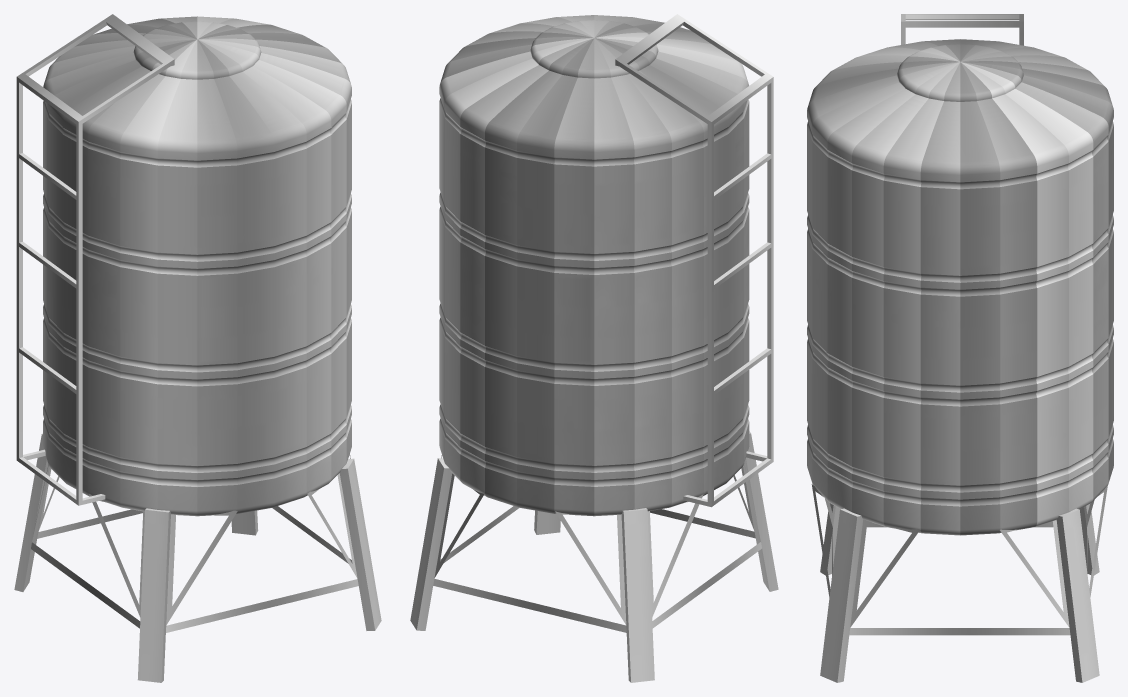
The model's file is 小水塔.glb.
3 renders of one model, left to right at view 1: azimuth 30°, elevation 25°; view 2: azimuth 150°, elevation 25°; view 3: azimuth 270°, elevation 25°, orthographic.
Parts seen in each view (by area): view 1: water+tower2#4, foot1#1 (×4); view 2: water+tower2#4, foot1#1 (×4); view 3: water+tower2#4, foot1#1 (×4).
Part boxes in pixels (left/top/right/bottom): water+tower2#4: left=16, top=14, right=358, bottom=632; foot1#1 (×4): left=14, top=433, right=381, bottom=682; water+tower2#4: left=433, top=14, right=773, bottom=632; foot1#1 (×4): left=410, top=431, right=778, bottom=682; water+tower2#4: left=807, top=14, right=1113, bottom=635; foot1#1 (×4): left=811, top=484, right=1107, bottom=682.
Bounding box in the file's own units: 1.39 × 2.74 × 1.32.
Materials: 1 (1 with a texture image).
